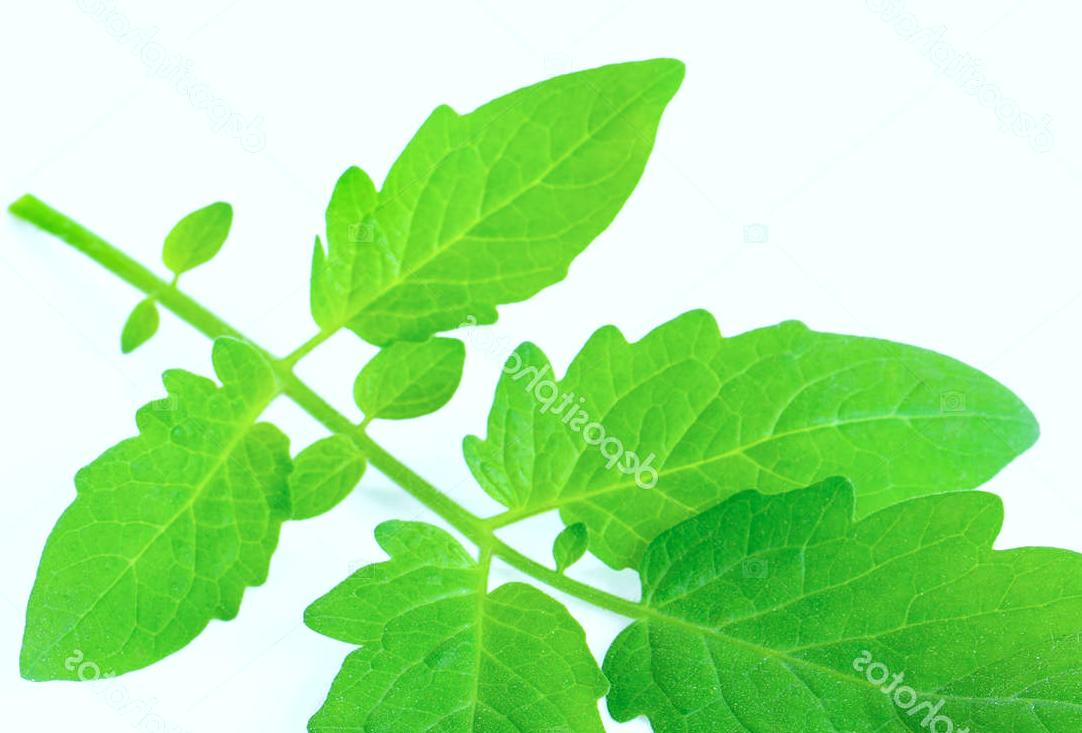Tomato leaf: (454, 292, 1045, 600), (281, 17, 715, 370), (610, 483, 1082, 733), (0, 356, 305, 709), (296, 511, 628, 733)
